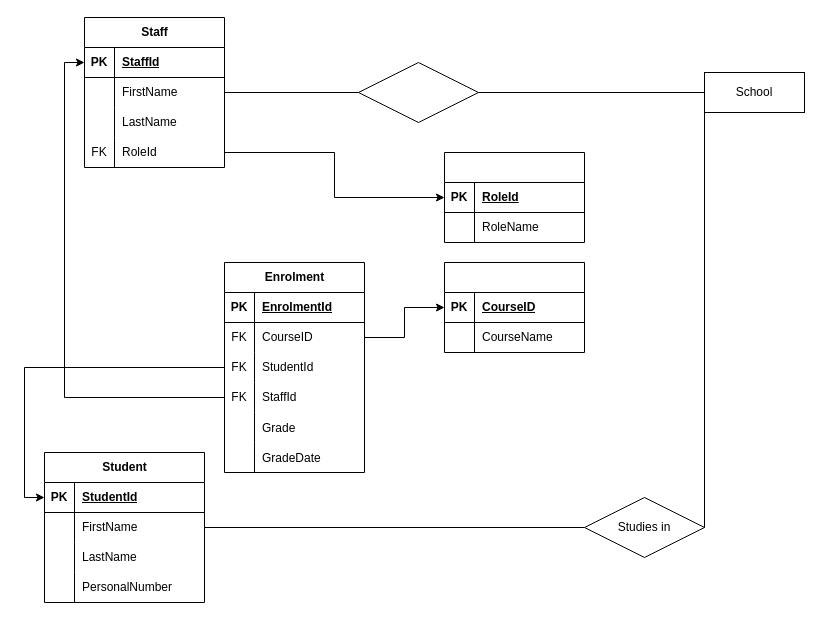
Image size: 822x620. Some labels were removed from this diagram. Here are the shapes that lost their labels. From the top down, the box of each, then its label:
(358, 62, 478, 122): Works at
(444, 152, 584, 242): Roles
(444, 262, 584, 352): Courses
